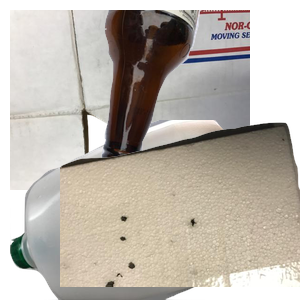cardboard: (10, 10, 250, 190)
glass: (99, 10, 300, 170)
plastic: (10, 120, 250, 300)
trash: (60, 120, 300, 300)
